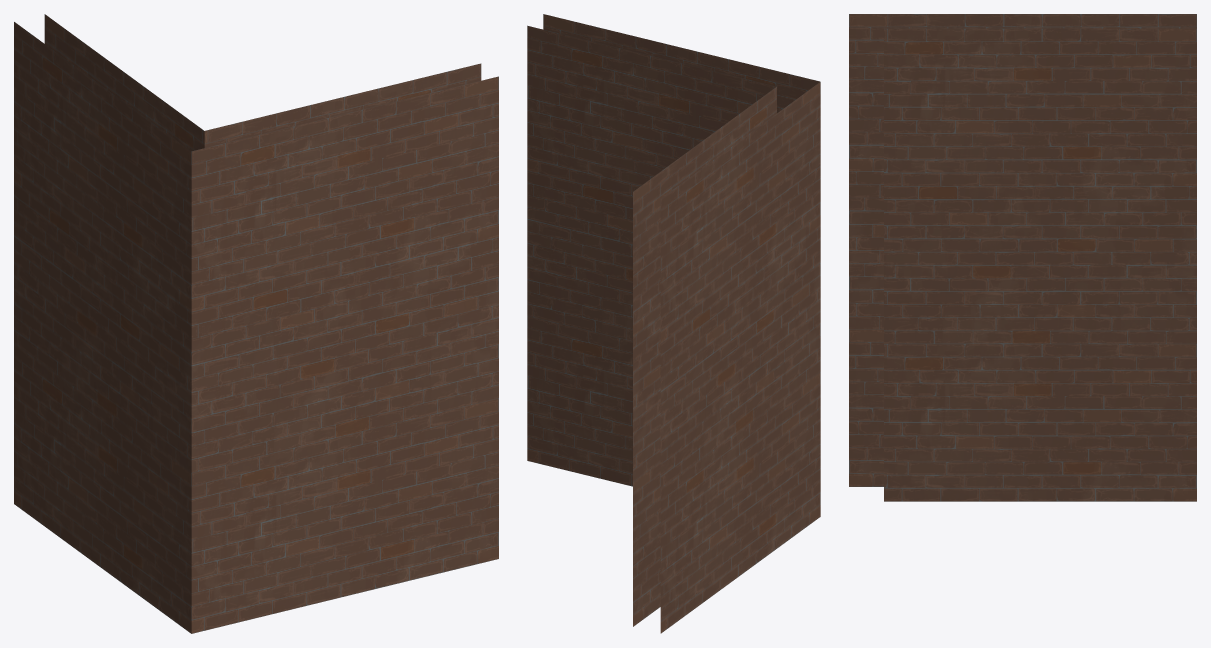
File: Brick_Corner_Plain.gltf
The picture shows the model from 3 angles, left to right: view 1: azimuth 30°, elevation 25°; view 2: azimuth 150°, elevation 25°; view 3: azimuth 270°, elevation 25°; orthographic projection. The views are drawn at different scales.
Parts seen in each view (by area): view 1: Brick_Corner_Plain; view 2: Brick_Corner_Plain; view 3: Brick_Corner_Plain.
Boxes of the visible parts, x1=… form: Brick_Corner_Plain: x1=14, y1=14, x2=498, y2=633; Brick_Corner_Plain: x1=527, y1=14, x2=820, y2=633; Brick_Corner_Plain: x1=849, y1=14, x2=1196, y2=501.
Bounding box in the file's own units: 2 × 3 × 2.
2 materials, 2 textured.
